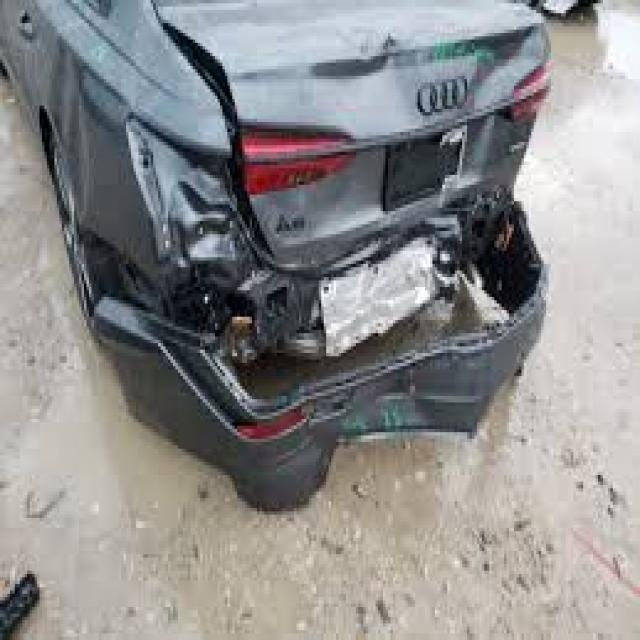damaged-trunk: (167, 8, 537, 250)
